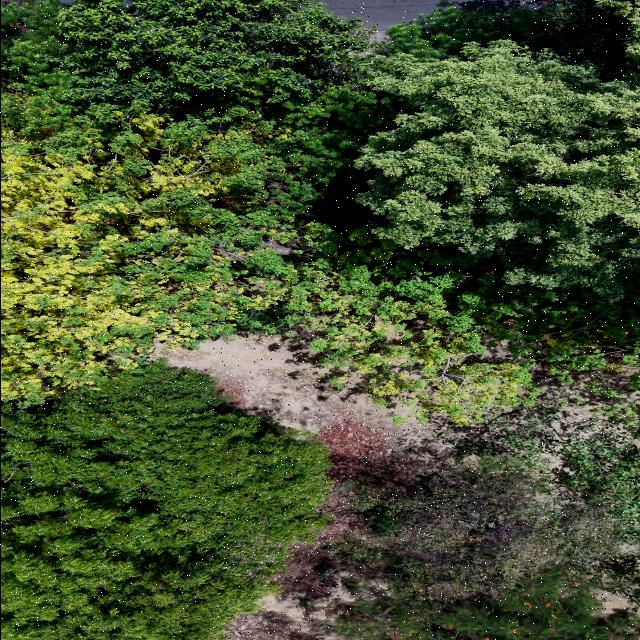DRY_AREA: (155, 335, 488, 639), (156, 335, 493, 470), (155, 335, 483, 472), (156, 335, 488, 468), (156, 335, 423, 483), (156, 335, 438, 458), (156, 335, 414, 436), (226, 487, 364, 639), (226, 488, 361, 639), (226, 491, 360, 639), (226, 586, 354, 639), (325, 0, 440, 39), (326, 0, 439, 38), (225, 608, 322, 639), (596, 589, 639, 615)
PATHWAYS: (325, 0, 440, 36)
VEGETATION_TREE: (1, 0, 639, 639), (1, 0, 638, 419), (3, 105, 636, 418), (333, 1, 639, 600), (1, 0, 393, 401), (319, 0, 639, 420), (1, 82, 336, 401), (1, 362, 329, 639), (357, 0, 639, 299), (9, 0, 393, 219), (327, 381, 639, 639), (358, 40, 639, 299), (9, 0, 391, 184), (300, 242, 639, 422), (331, 461, 638, 639), (330, 462, 623, 599), (12, 0, 365, 113), (502, 383, 639, 542), (336, 570, 637, 639), (378, 0, 633, 76)
